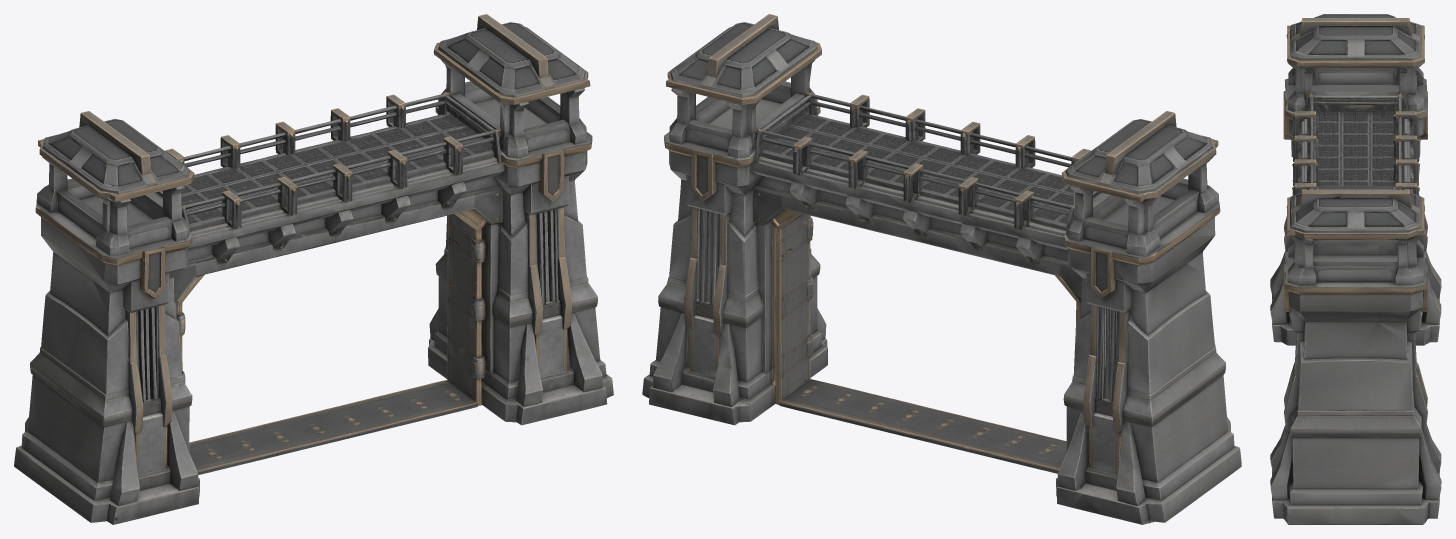
The model's file is imperial_city_gate.glb.
3 renders of one model, left to right at view 1: azimuth 30°, elevation 25°; view 2: azimuth 150°, elevation 25°; view 3: azimuth 270°, elevation 25°, orthographic. The views are drawn at different scales.
Visible parts, largest first — view 1: mesh_node; view 2: mesh_node; view 3: mesh_node.
Part boxes in pixels (left/top/right/bottom): mesh_node: left=14, top=14, right=613, bottom=524; mesh_node: left=642, top=14, right=1241, bottom=524; mesh_node: left=1270, top=14, right=1441, bottom=524.
Size of the model in its own units: 12.54 by 7.92 by 4.01.
1 material, 1 textured.
